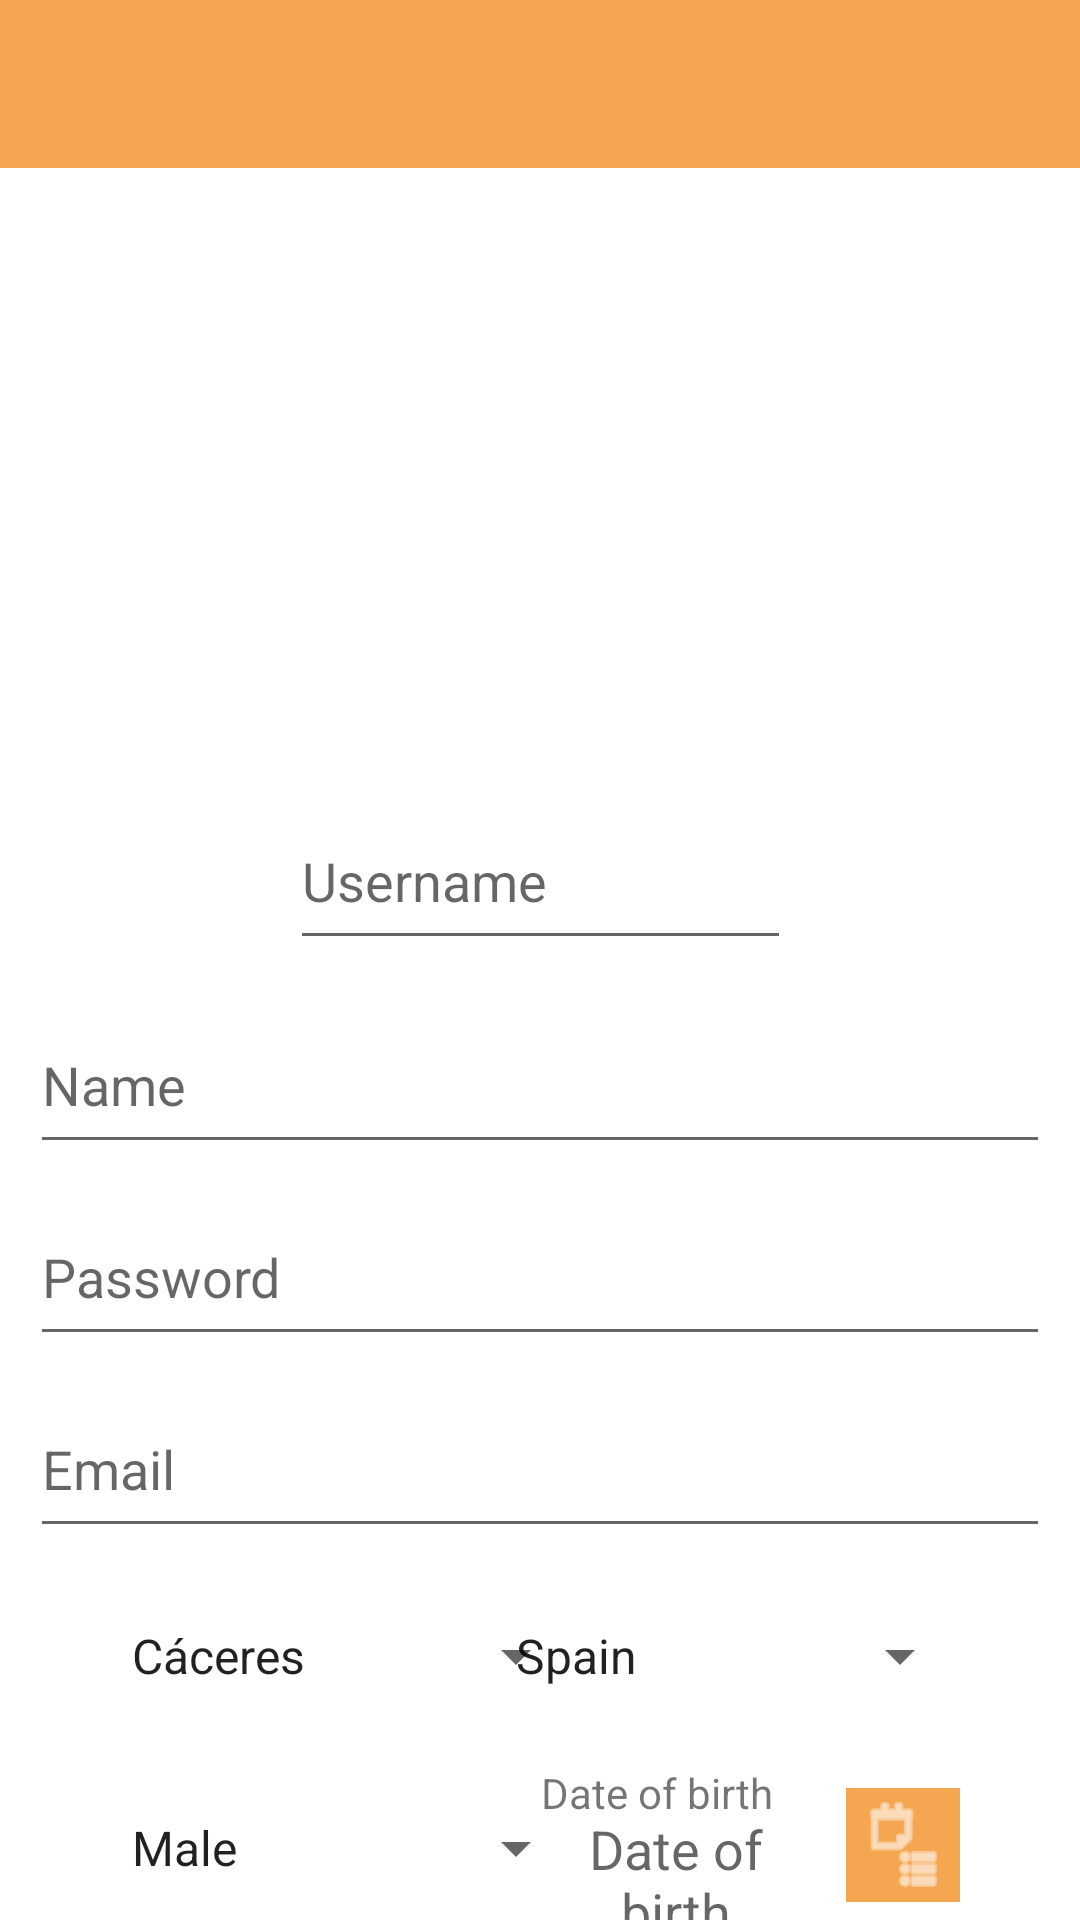

Named icons in this screenshot (1080*1920) and their centers, point (x, y):
agenda: point (903, 1845)
